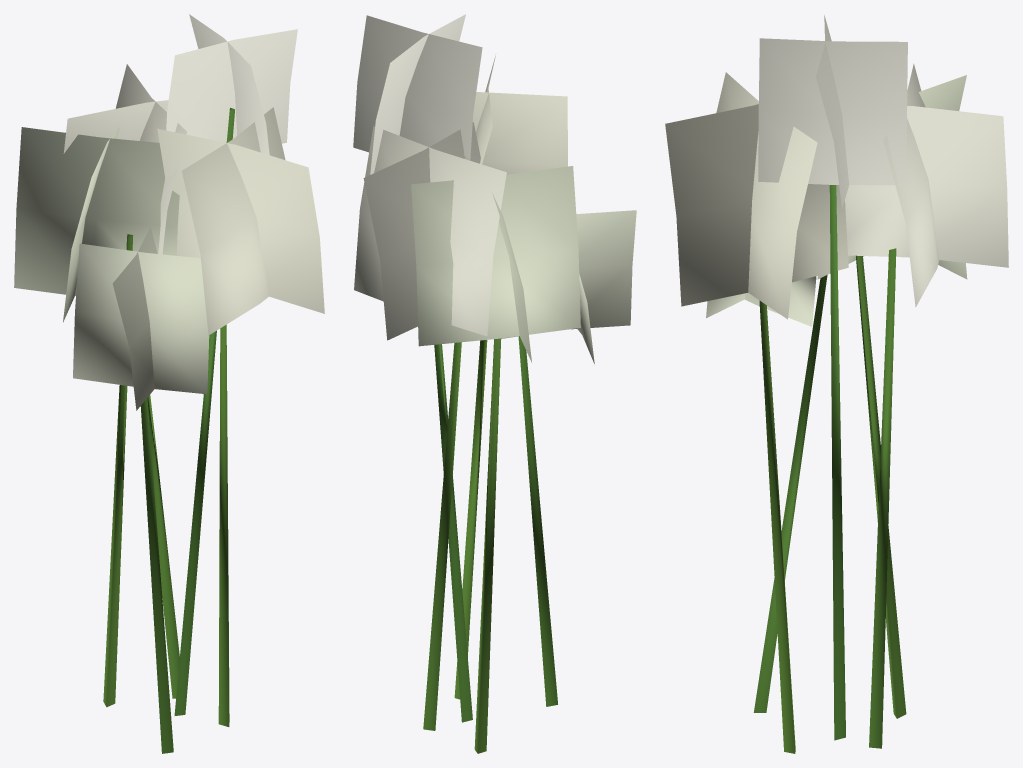
File: papyrus.glb
The picture shows the model from 3 angles, left to right: view 1: azimuth 30°, elevation 25°; view 2: azimuth 150°, elevation 25°; view 3: azimuth 270°, elevation 25°; orthographic projection. The views are drawn at different scales.
Visible parts, largest first — view 1: papyrus; view 2: papyrus; view 3: papyrus.
Part boxes in pixels (left/top/right/bottom): papyrus: left=14, top=14, right=324, bottom=753; papyrus: left=353, top=14, right=636, bottom=753; papyrus: left=665, top=15, right=1008, bottom=753.
Size of the model in its own units: 0.8904 by 2.49 by 1.08.
